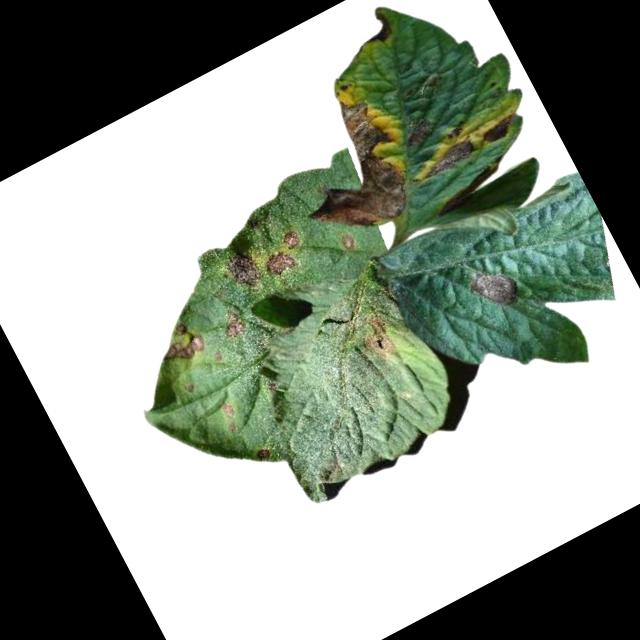Early_blight: (266, 83, 428, 252), (461, 253, 526, 316), (153, 314, 209, 370), (350, 309, 403, 368), (415, 133, 481, 180), (224, 246, 265, 292), (262, 244, 303, 281), (399, 113, 440, 150), (478, 113, 518, 147), (358, 9, 395, 45), (217, 305, 250, 342), (281, 225, 307, 251), (337, 230, 357, 252), (255, 443, 274, 464)
